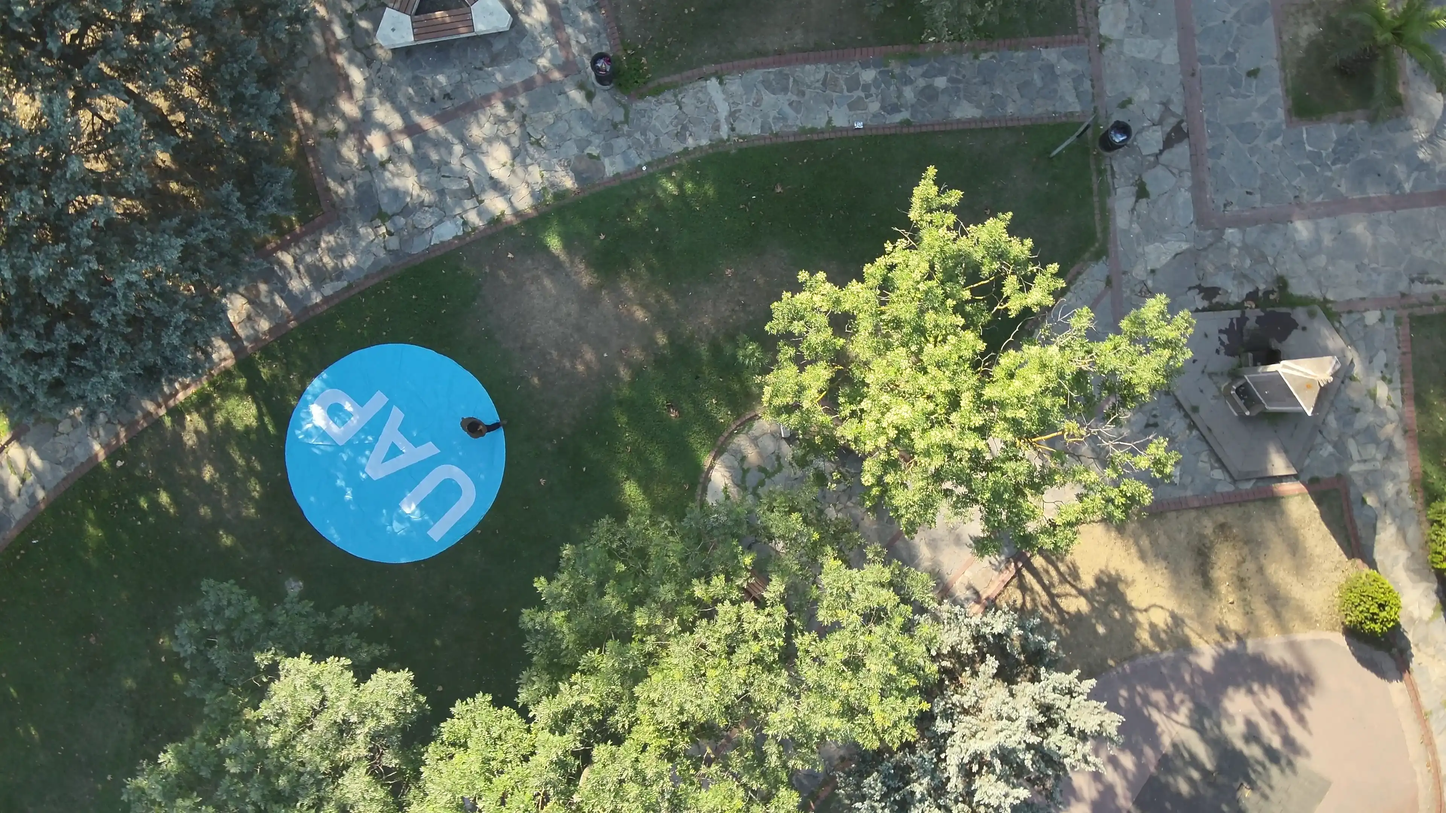UAP: (279, 339, 516, 563)
person: (454, 415, 507, 439)
